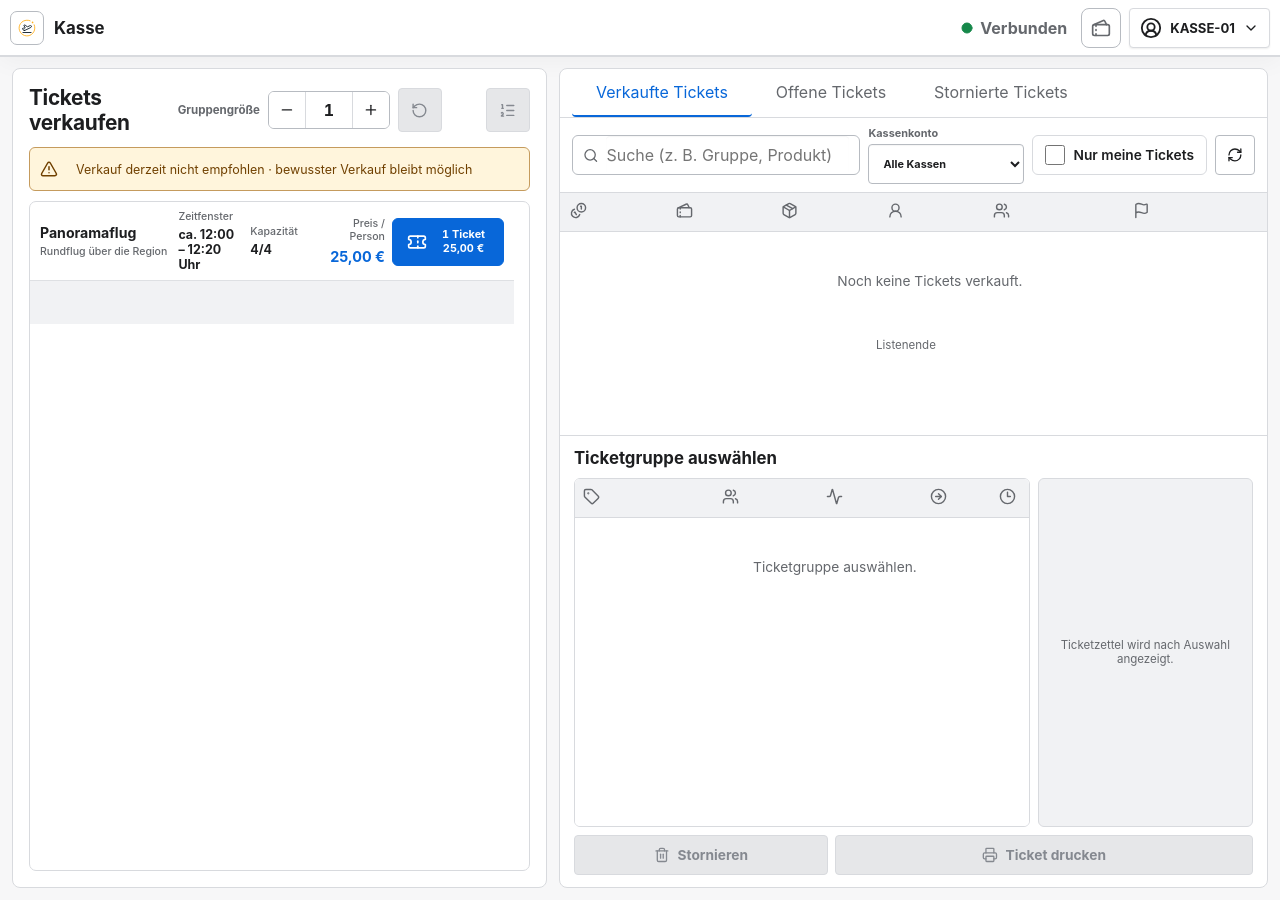
it: cashier workflows › keeps a failed sale retryable and reports the server reason
This screenshot has width=1280, height=900.
Click the button with aria-label "1 Ticket für Panoramaflug verkaufen": [448, 242] box [392,218,504,266]
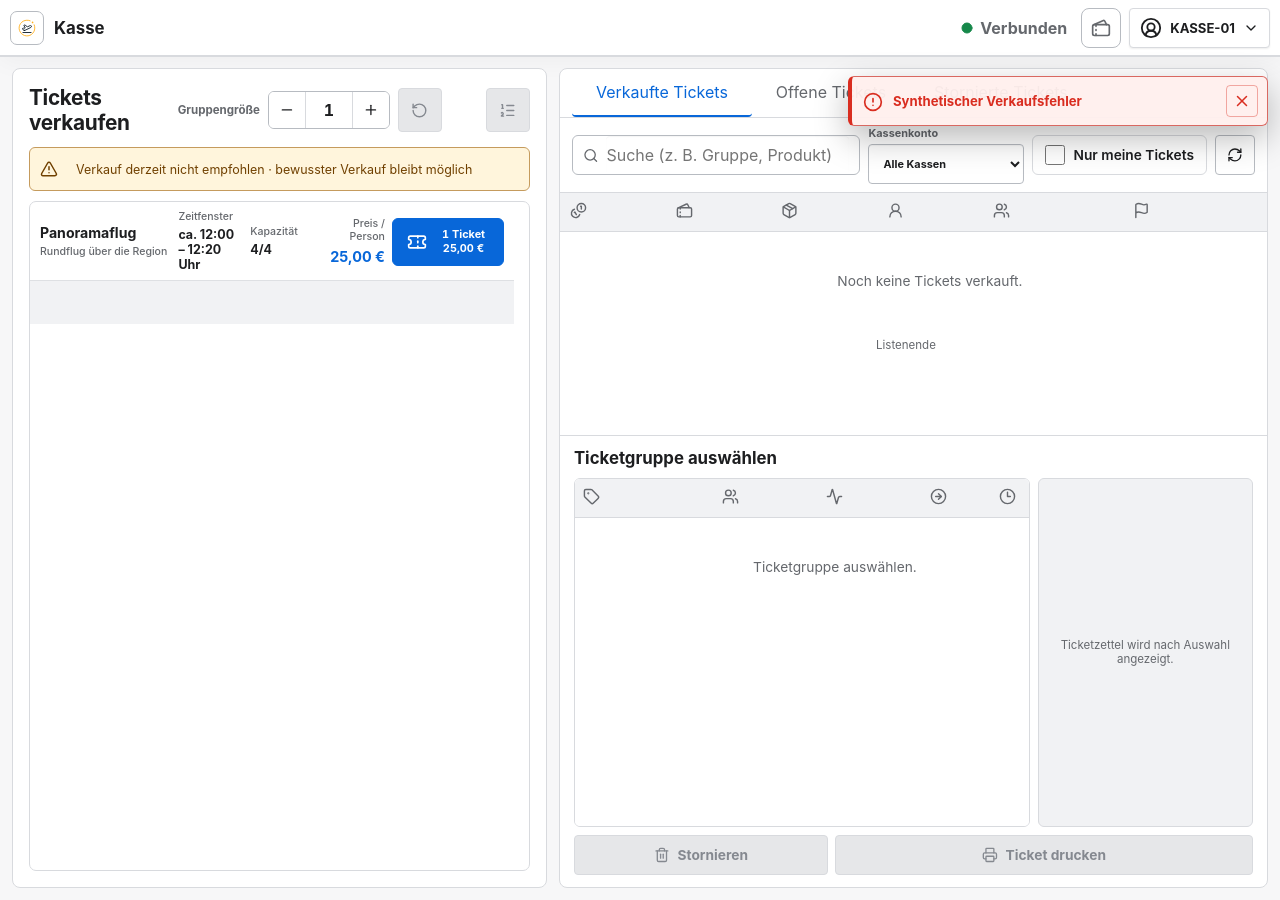
expect the text "Synthetischer Verkaufsfehler" is shown: met, box [893,93,1082,109]
